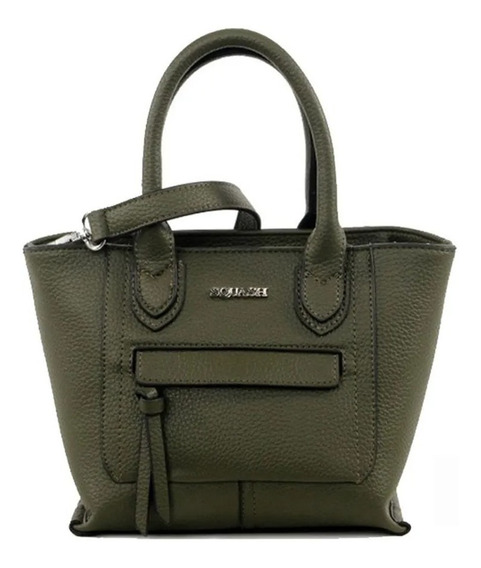cartera: (18, 27, 456, 537)
